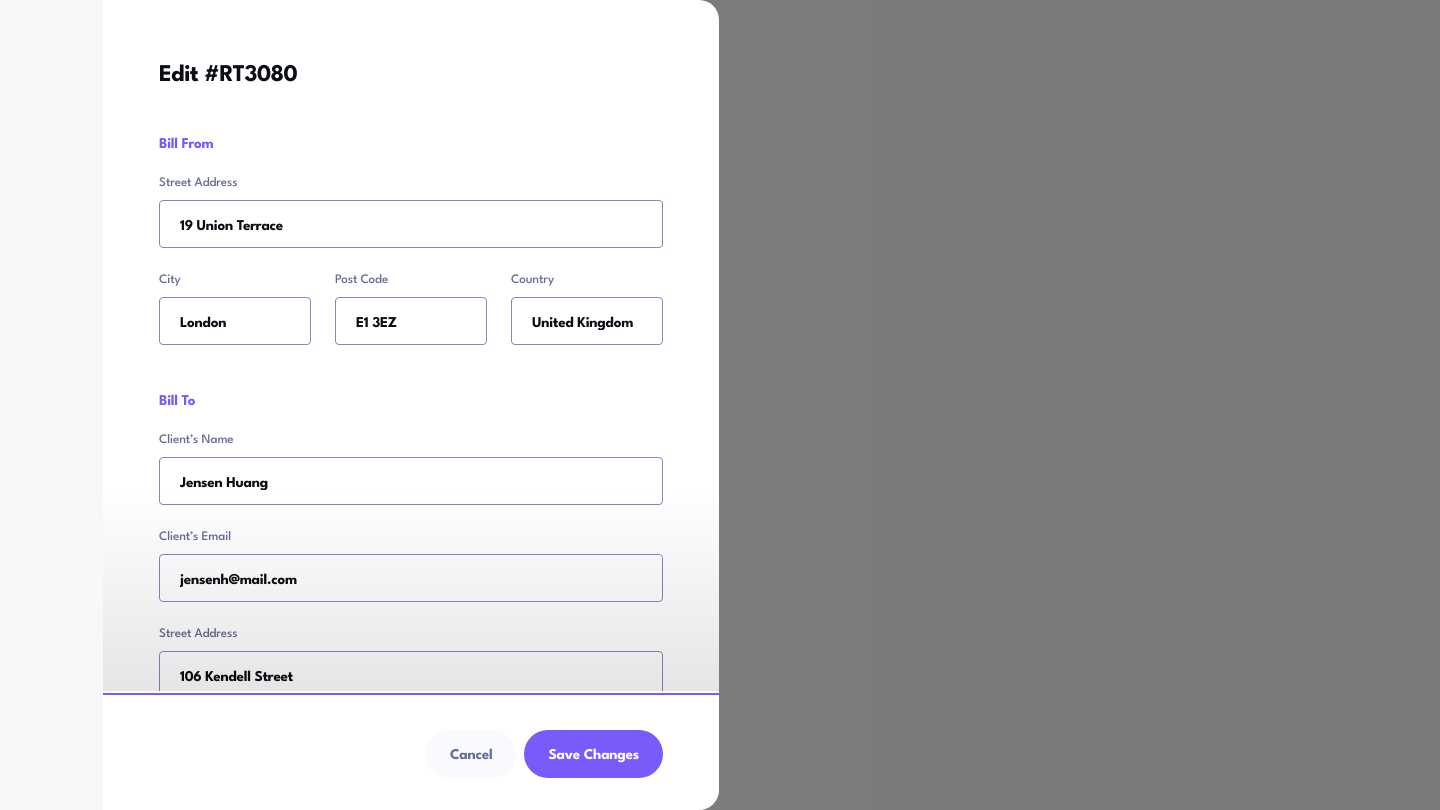
Test: when the service cannot be reached › says so and leaves the drawer open
Step 1. Click the button "Save Changes" → click(594, 754), box [524,730,663,778]
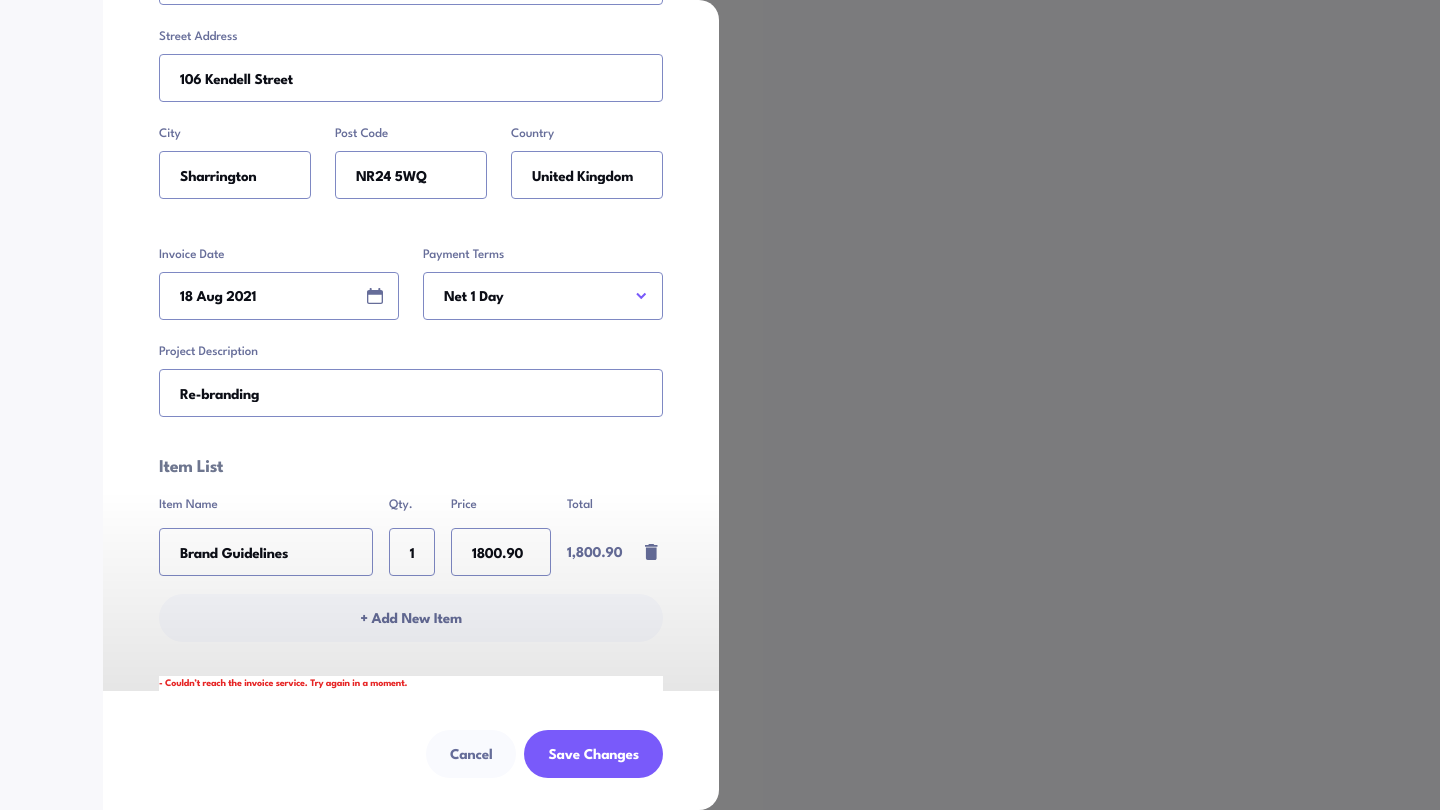
Check: the text "- Couldn’t reach the invoice service. Try again in a moment." is shown, box [159,679,407,688]
